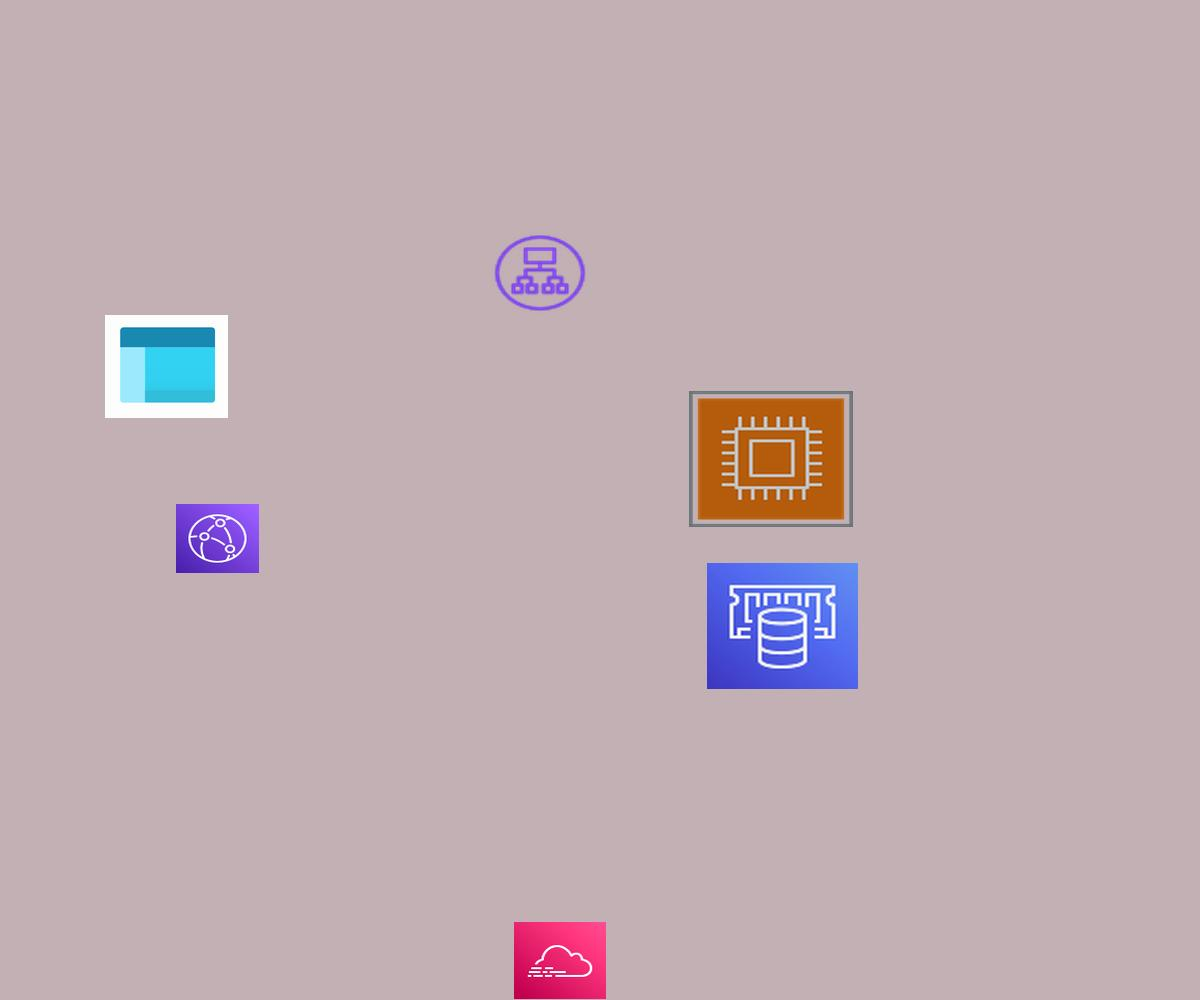AWS-Category_Compute: (689, 391, 853, 527)
AWS-CloudFront: (176, 504, 259, 573)
AWS-CloudTrail: (514, 922, 606, 999)
AWS-ElastiCache: (707, 563, 858, 689)
AWS-Res_Elastic-Load-Balancing_Application-Load-Balancer: (491, 232, 589, 314)
Azure_management-portal: (105, 315, 228, 418)
